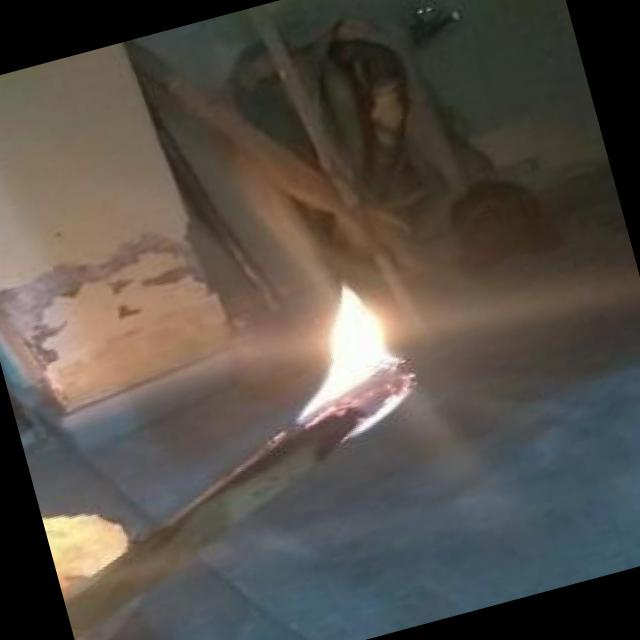fire: (236, 264, 453, 473)
